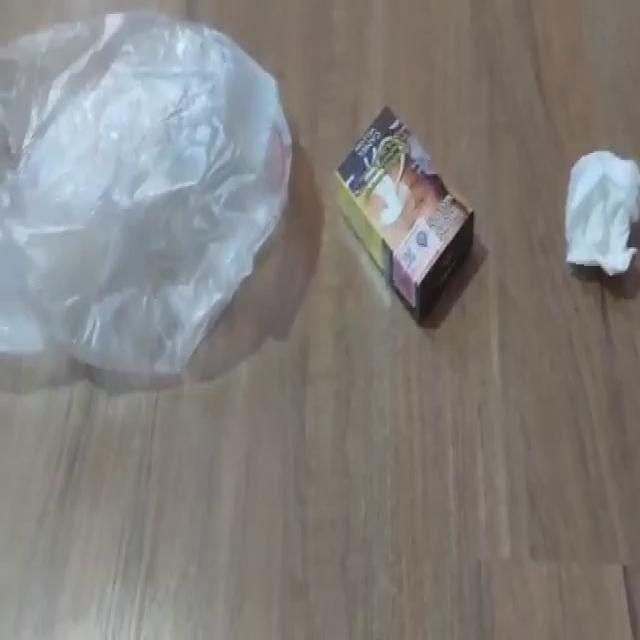Anorganik: (1, 6, 298, 384)
Organik: (329, 97, 479, 334), (562, 142, 640, 282)
